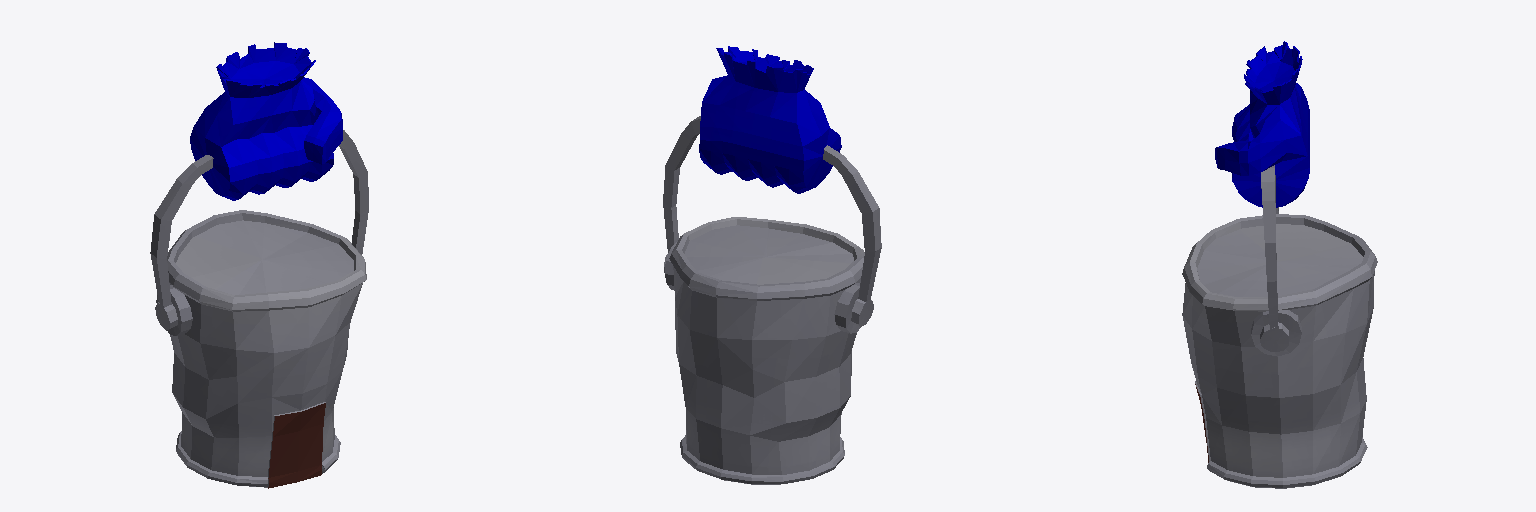
3 renders of one model, left to right at view 1: azimuth 30°, elevation 25°; view 2: azimuth 150°, elevation 25°; view 3: azimuth 270°, elevation 25°, orthographic.
Visible parts, largest first — view 1: model_0, Object001, Object002; view 2: model_0, Object001; view 3: model_0, Object001.
Boxes of the visible parts, <box> form: model_0: <box>150,130,368,487</box>; Object001: <box>190,42,342,200</box>; Object002: <box>268,403,325,488</box>; model_0: <box>663,116,881,484</box>; Object001: <box>699,46,841,193</box>; model_0: <box>1182,165,1377,488</box>; Object001: <box>1215,41,1309,207</box>.
Bounding box in the file's own units: 11.83 × 21.33 × 9.39.
Materials: 3 (3 with a texture image).